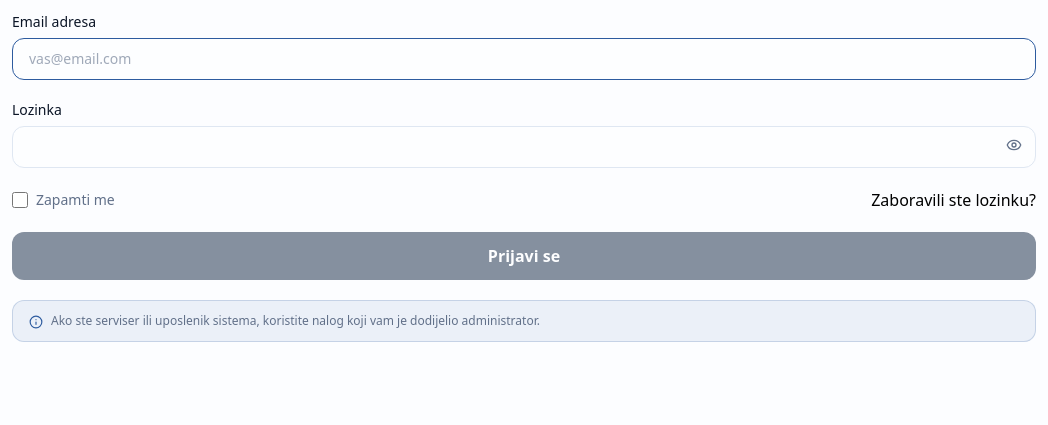
Scenario: LoginForm › shows error for invalid login
Type "user@example.com" into the field labelled "Email adresa". click: (524, 59)
box: [12,38,1036,80]
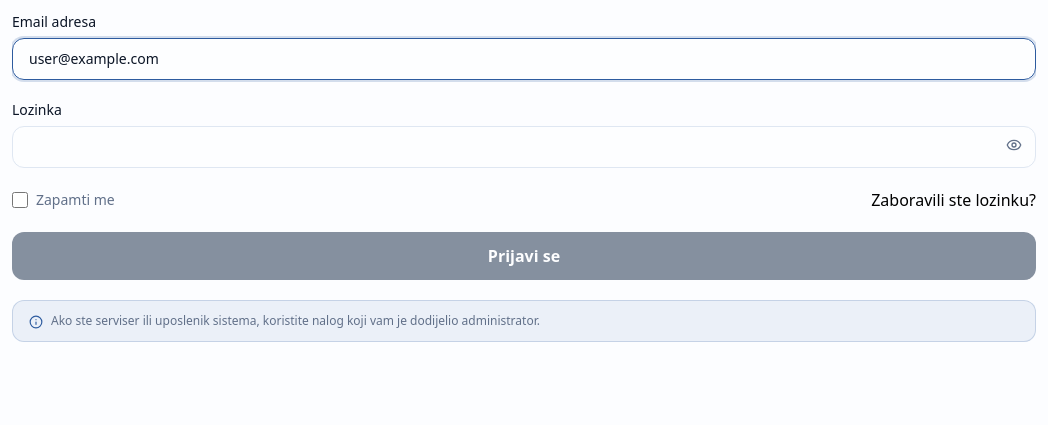
Type "Abcd123!" into the password field labelled "Lozinka". click: (524, 147)
box: [12,126,1036,168]
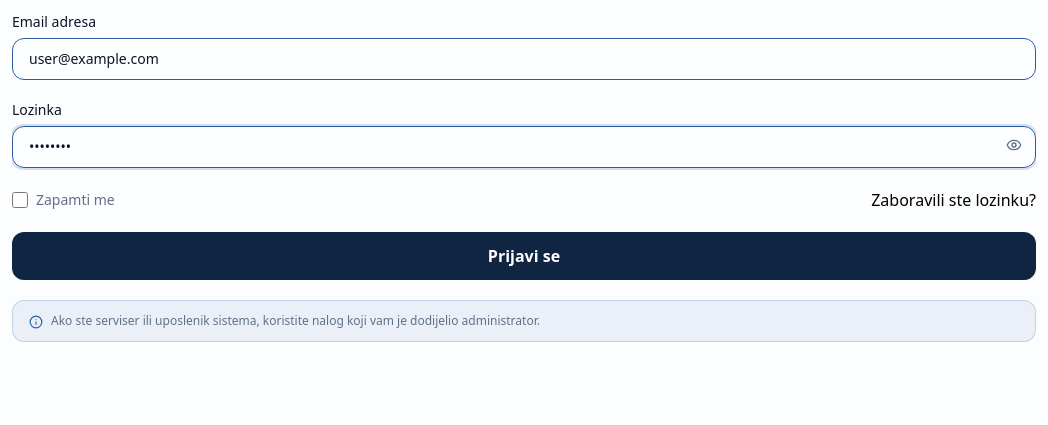
Click the button "Prijavi se". click: click(524, 256)
box: [12,232,1036,280]
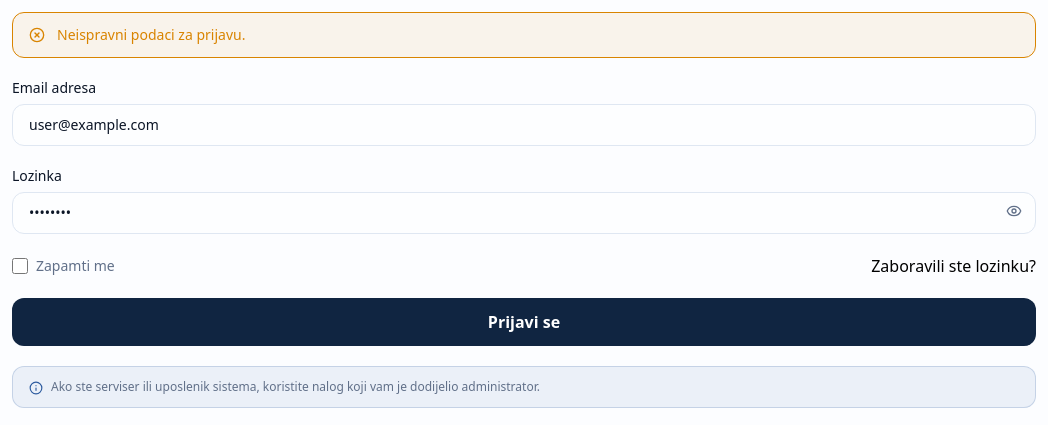
Check: the text "Neispravni podaci za prijavu." is shown, box [57,25,245,45]
